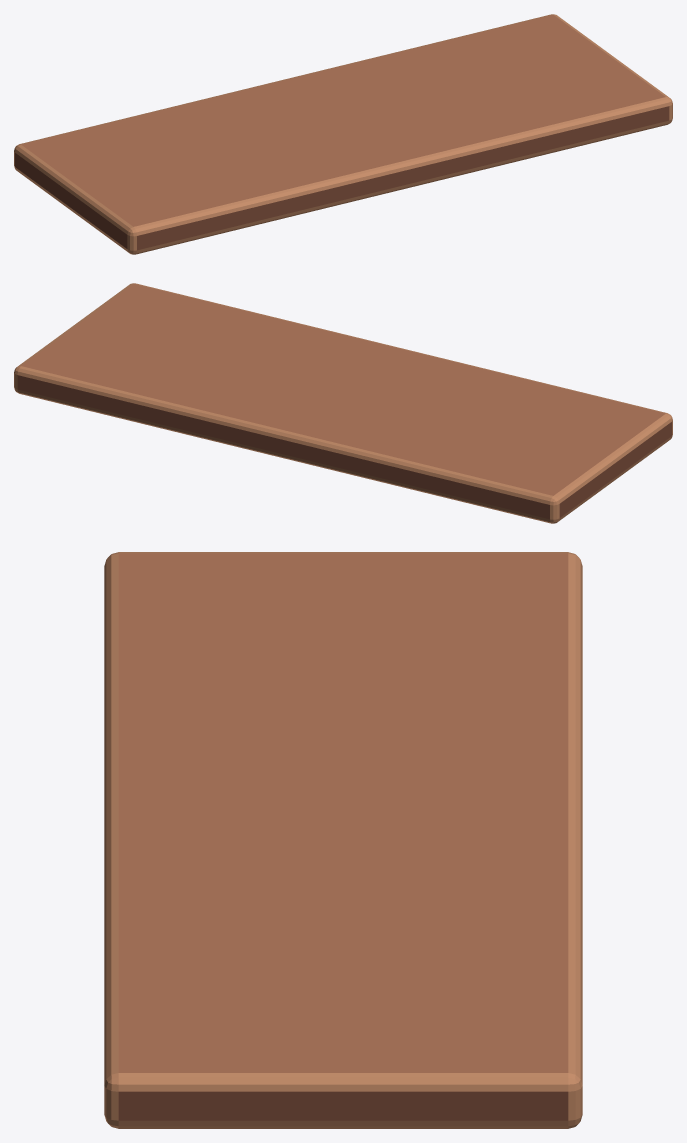
The model's file is hero_desk_top.glb.
3 views of the same model, one above another, from view 1: azimuth 30°, elevation 25°; view 2: azimuth 150°, elevation 25°; view 3: azimuth 270°, elevation 25° (orthographic). The views are drawn at different scales.
Parts seen in each view (by area): view 1: Student desk tabletop; view 2: Student desk tabletop; view 3: Student desk tabletop.
Part boxes in pixels (x1=…): Student desk tabletop: x1=14, y1=14, x2=672, y2=254; Student desk tabletop: x1=14, y1=283, x2=672, y2=523; Student desk tabletop: x1=104, y1=552, x2=582, y2=1128.
Size of the model in its own units: 3.55 by 0.17 by 1.35.
